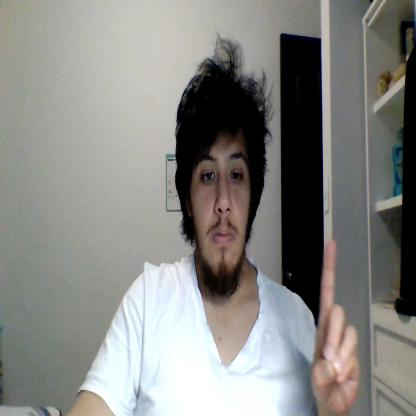D: (310, 238, 360, 415)
